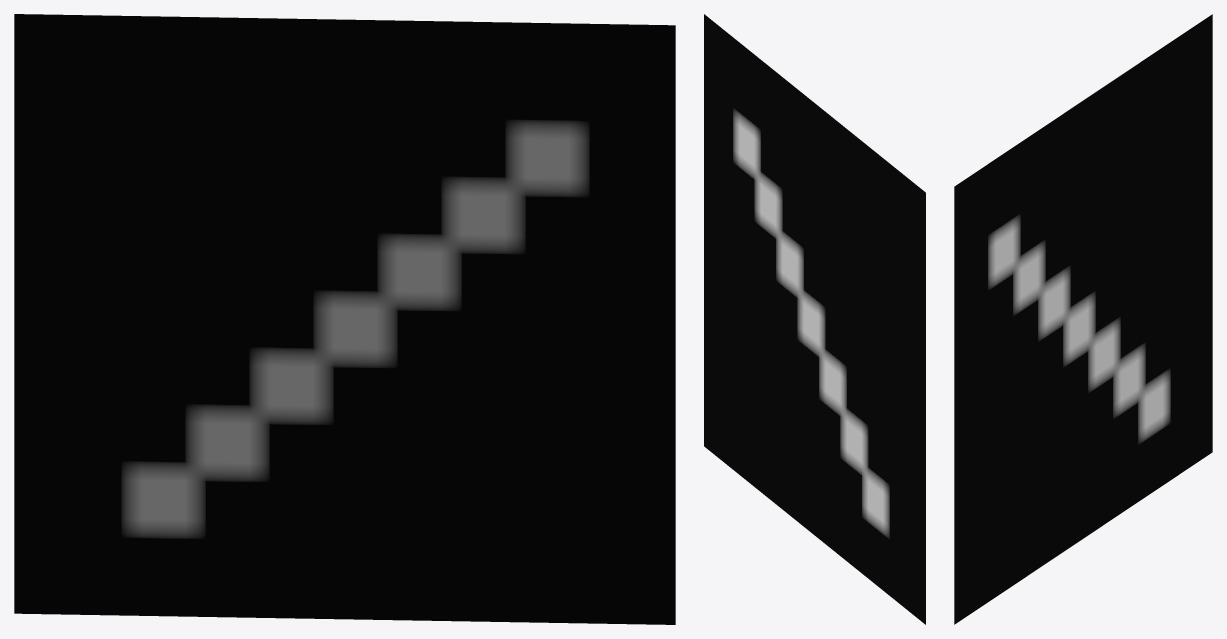
The picture shows the model from 3 angles, left to right: view 1: azimuth 30°, elevation 25°; view 2: azimuth 150°, elevation 25°; view 3: azimuth 270°, elevation 25°; orthographic projection. The views are drawn at different scales.
Parts seen in each view (by area): view 1: Joint_0_Object_0; view 2: Joint_0_Object_0; view 3: Joint_0_Object_0.
Boxes of the visible parts, x1,y1,x2,y2 form: Joint_0_Object_0: [14, 14, 675, 624]; Joint_0_Object_0: [704, 14, 925, 624]; Joint_0_Object_0: [954, 14, 1212, 624].
Bounding box in the file's own units: 27.04 × 32 × 17.11.
1 material, 1 textured.
